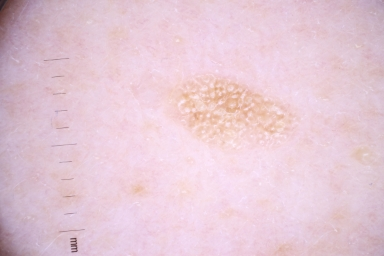melanoma: (177, 76, 294, 141)
